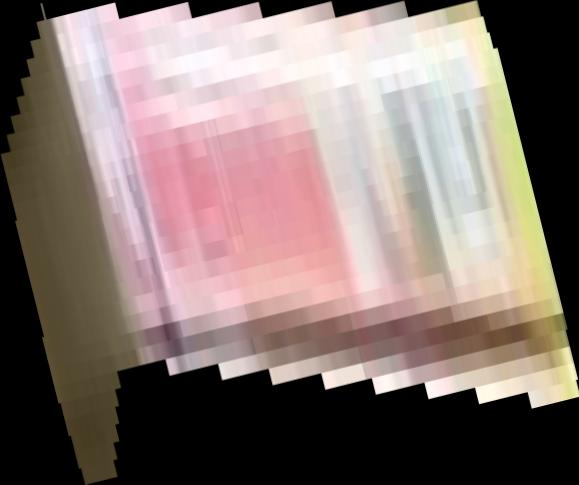flat: (1, 1, 579, 485)
